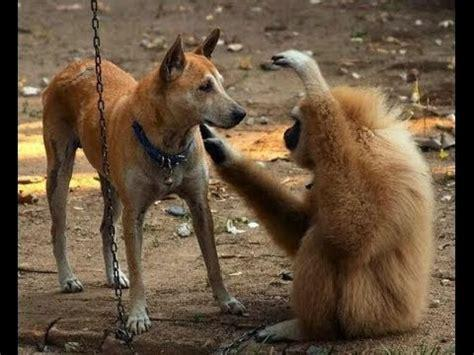dog: (41, 28, 245, 332)
monkey: (200, 50, 433, 340)
